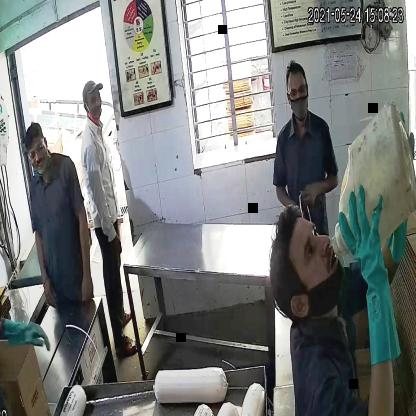goggles: (284, 80, 311, 104), (23, 140, 49, 162)
no_goggles: (303, 207, 321, 301), (84, 89, 104, 106)
